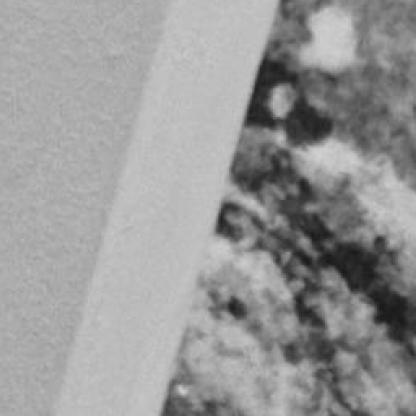PVC: (53, 0, 281, 414)
